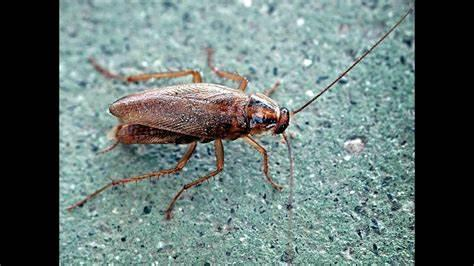cockroach: (109, 67, 294, 176)
